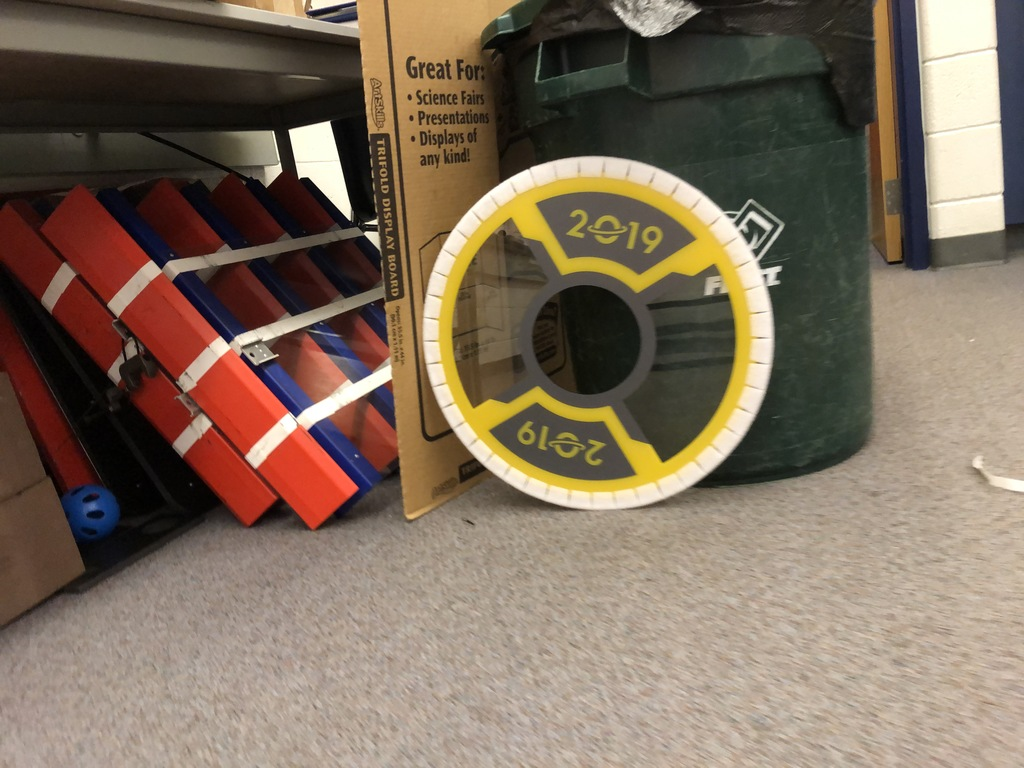hatch_panel: (403, 134, 785, 521)
